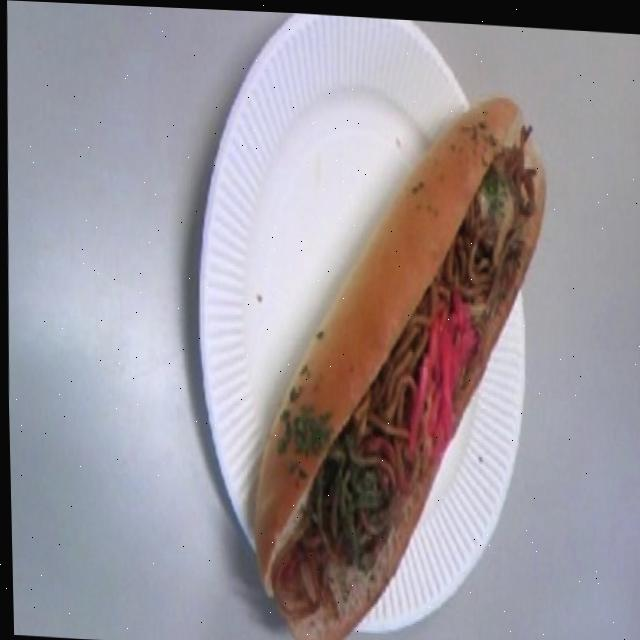三明治: (234, 72, 577, 640)
